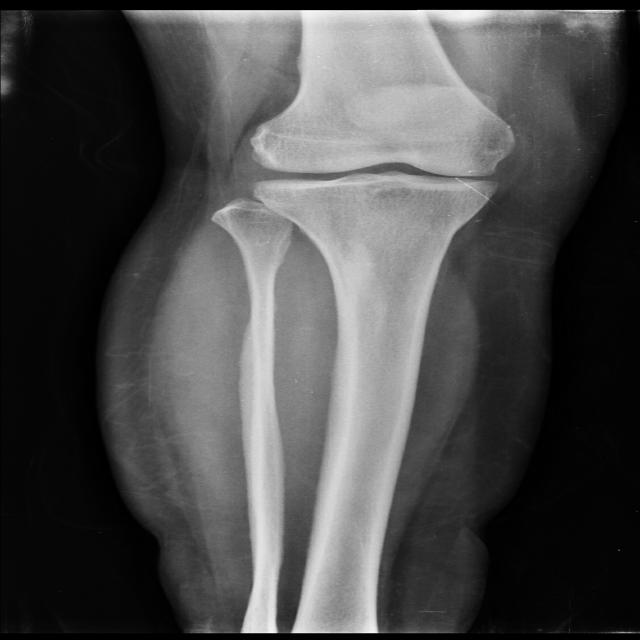normal: (244, 112, 524, 212)
